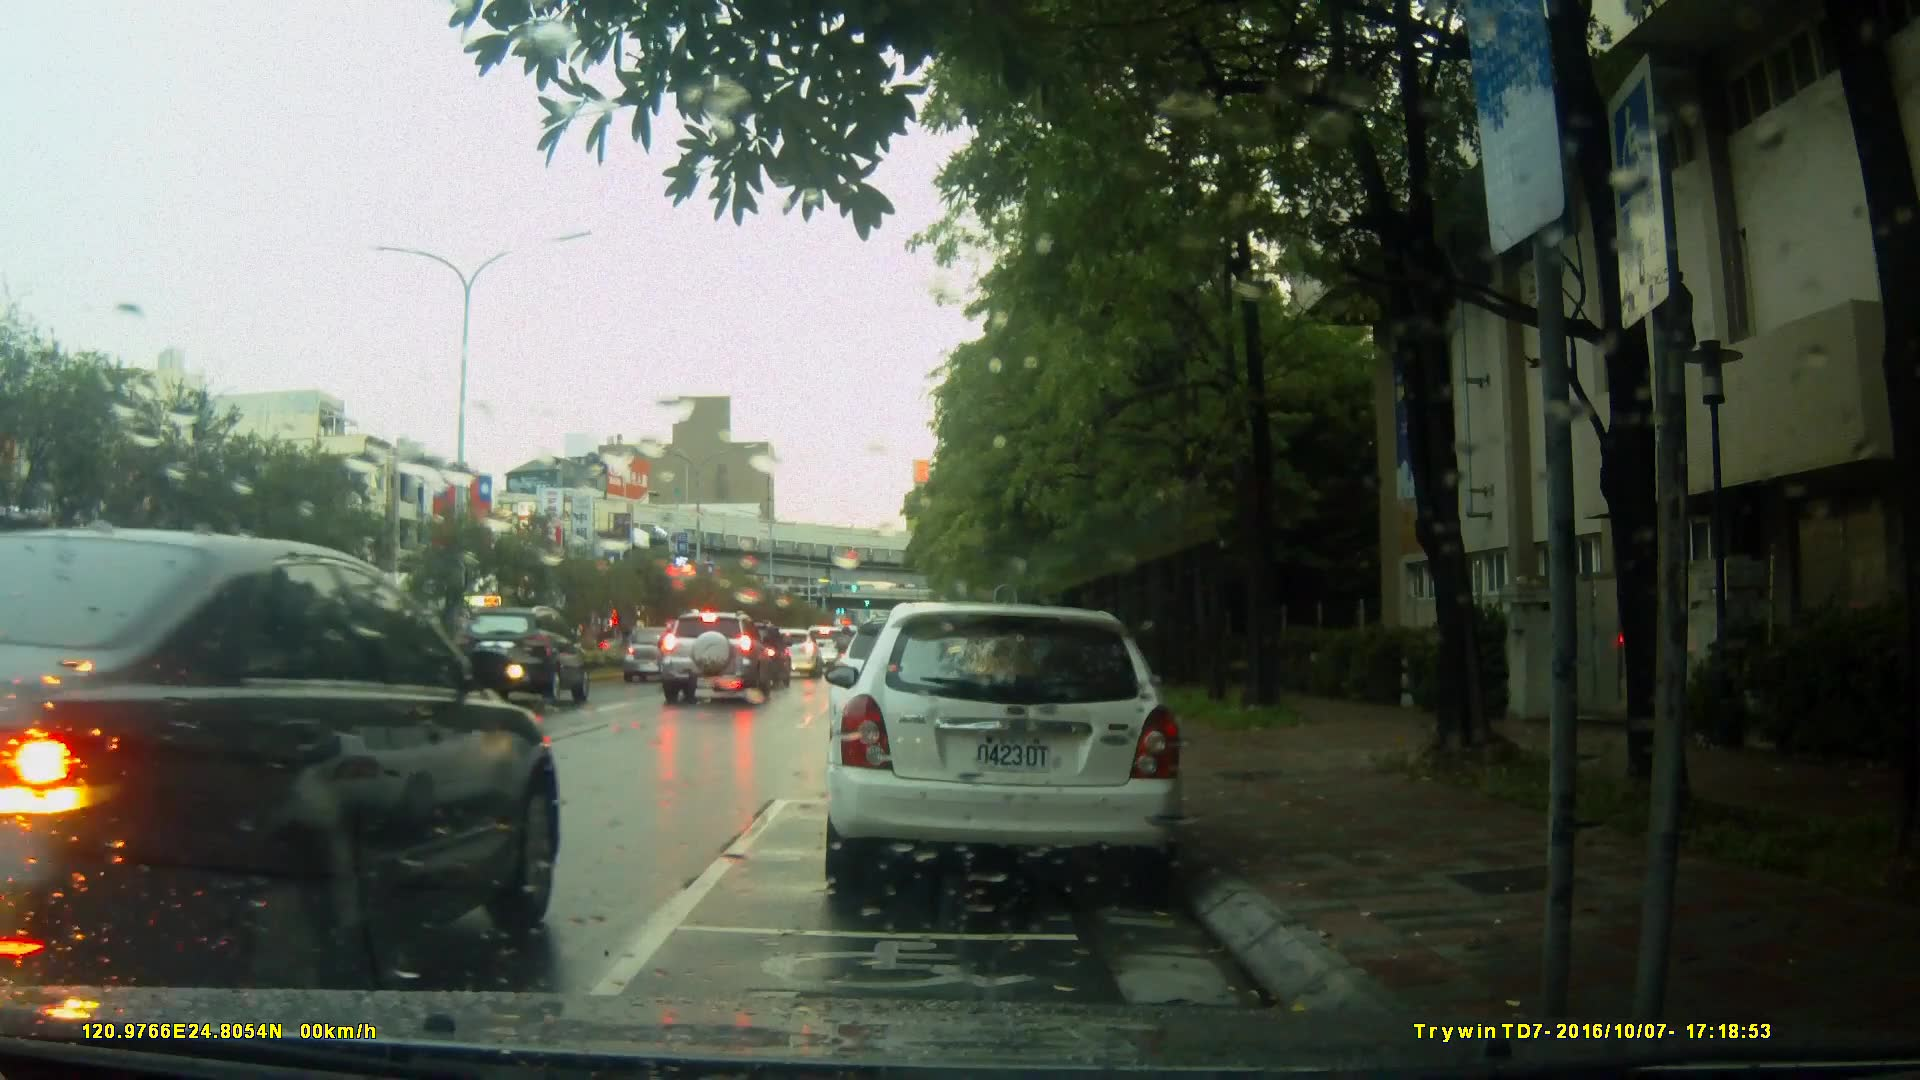rider: (834, 625, 863, 687)
vehicle: (1, 520, 564, 993), (820, 602, 1188, 898), (449, 605, 594, 708), (661, 611, 769, 707)
